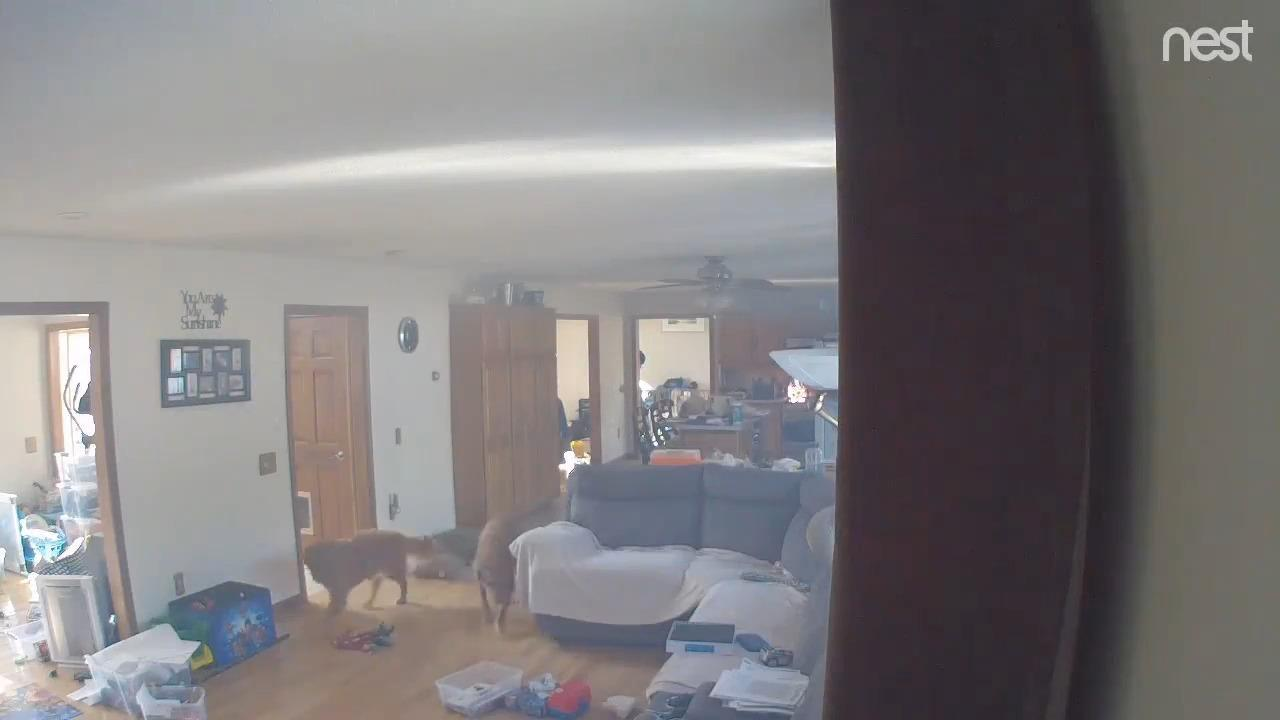fire: (787, 375, 807, 404)
